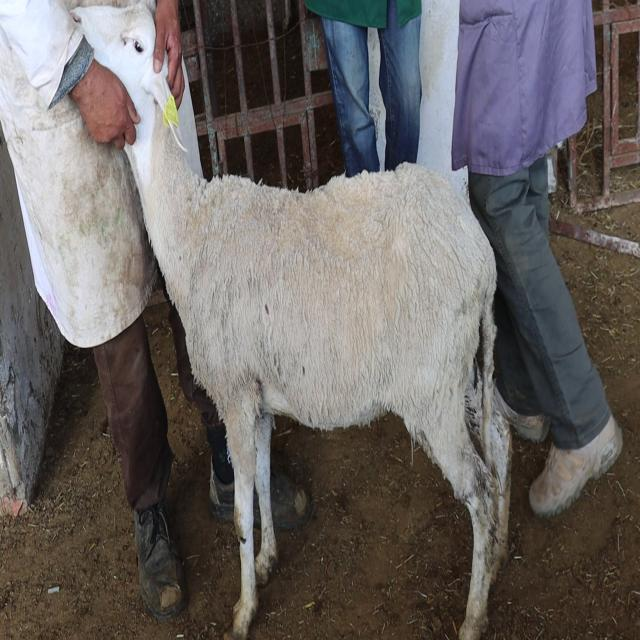Score_1: (71, 4, 511, 639)
